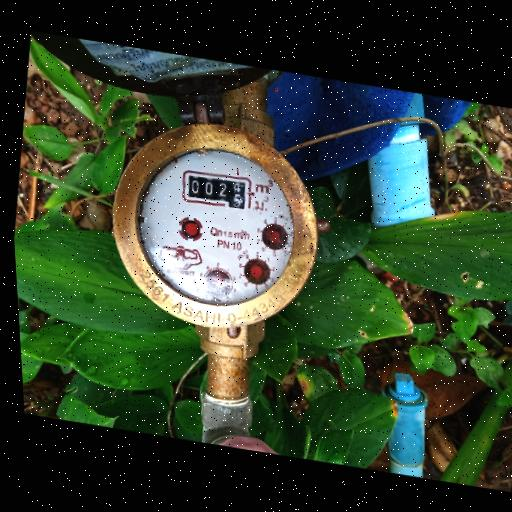0: (186, 174, 207, 199), (200, 177, 221, 201)
2: (214, 179, 233, 203)
4: (226, 180, 249, 210)
border_water_meter_number: (178, 168, 255, 212)
